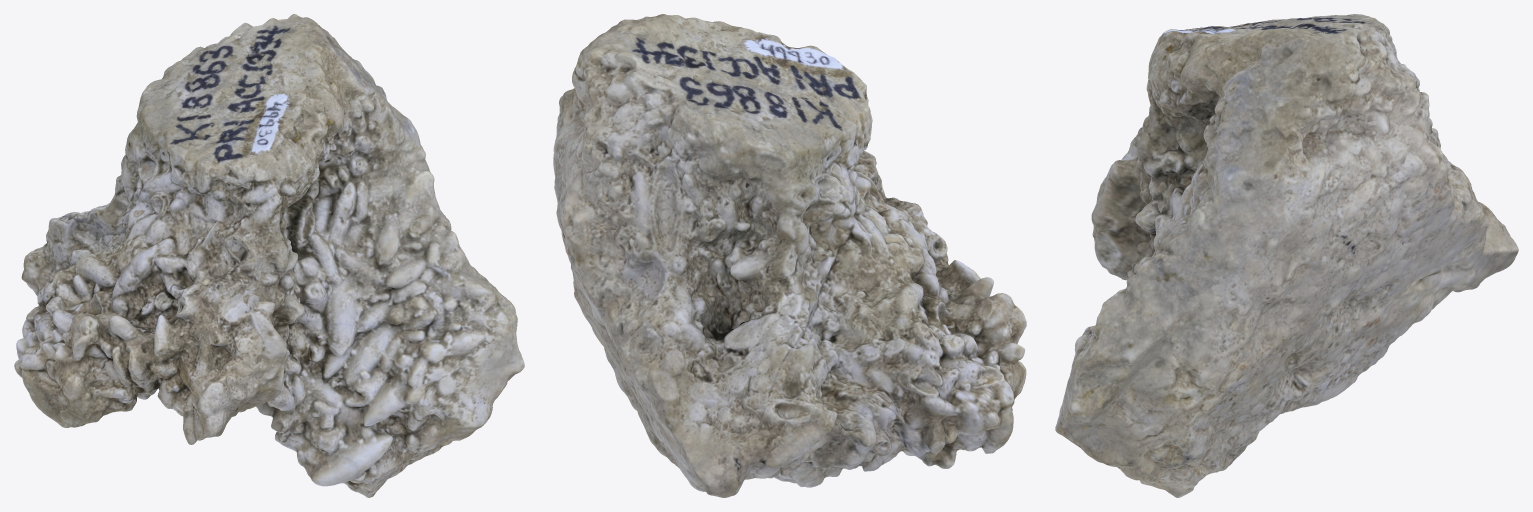
The picture shows the model from 3 angles, left to right: view 1: azimuth 30°, elevation 25°; view 2: azimuth 150°, elevation 25°; view 3: azimuth 270°, elevation 25°; orthographic projection. The views are drawn at different scales.
Visible parts, largest first — view 1: Object_2, Object_3, Object_4; view 2: Object_2, Object_3, Object_4; view 3: Object_3, Object_2, Object_4.
Part boxes in pixels (left/top/right/bottom): Object_2: left=14, top=14, right=524, bottom=436; Object_3: left=47, top=14, right=506, bottom=497; Object_4: left=166, top=55, right=520, bottom=496; Object_2: left=553, top=14, right=1026, bottom=497; Object_3: left=553, top=15, right=1023, bottom=487; Object_4: left=554, top=88, right=705, bottom=490; Object_3: left=1072, top=20, right=1486, bottom=485; Object_2: left=1055, top=14, right=1518, bottom=497; Object_4: left=1056, top=58, right=1402, bottom=496.
Size of the model in its own units: 1.14 by 1.1 by 0.9974.
1 material, 1 textured.
